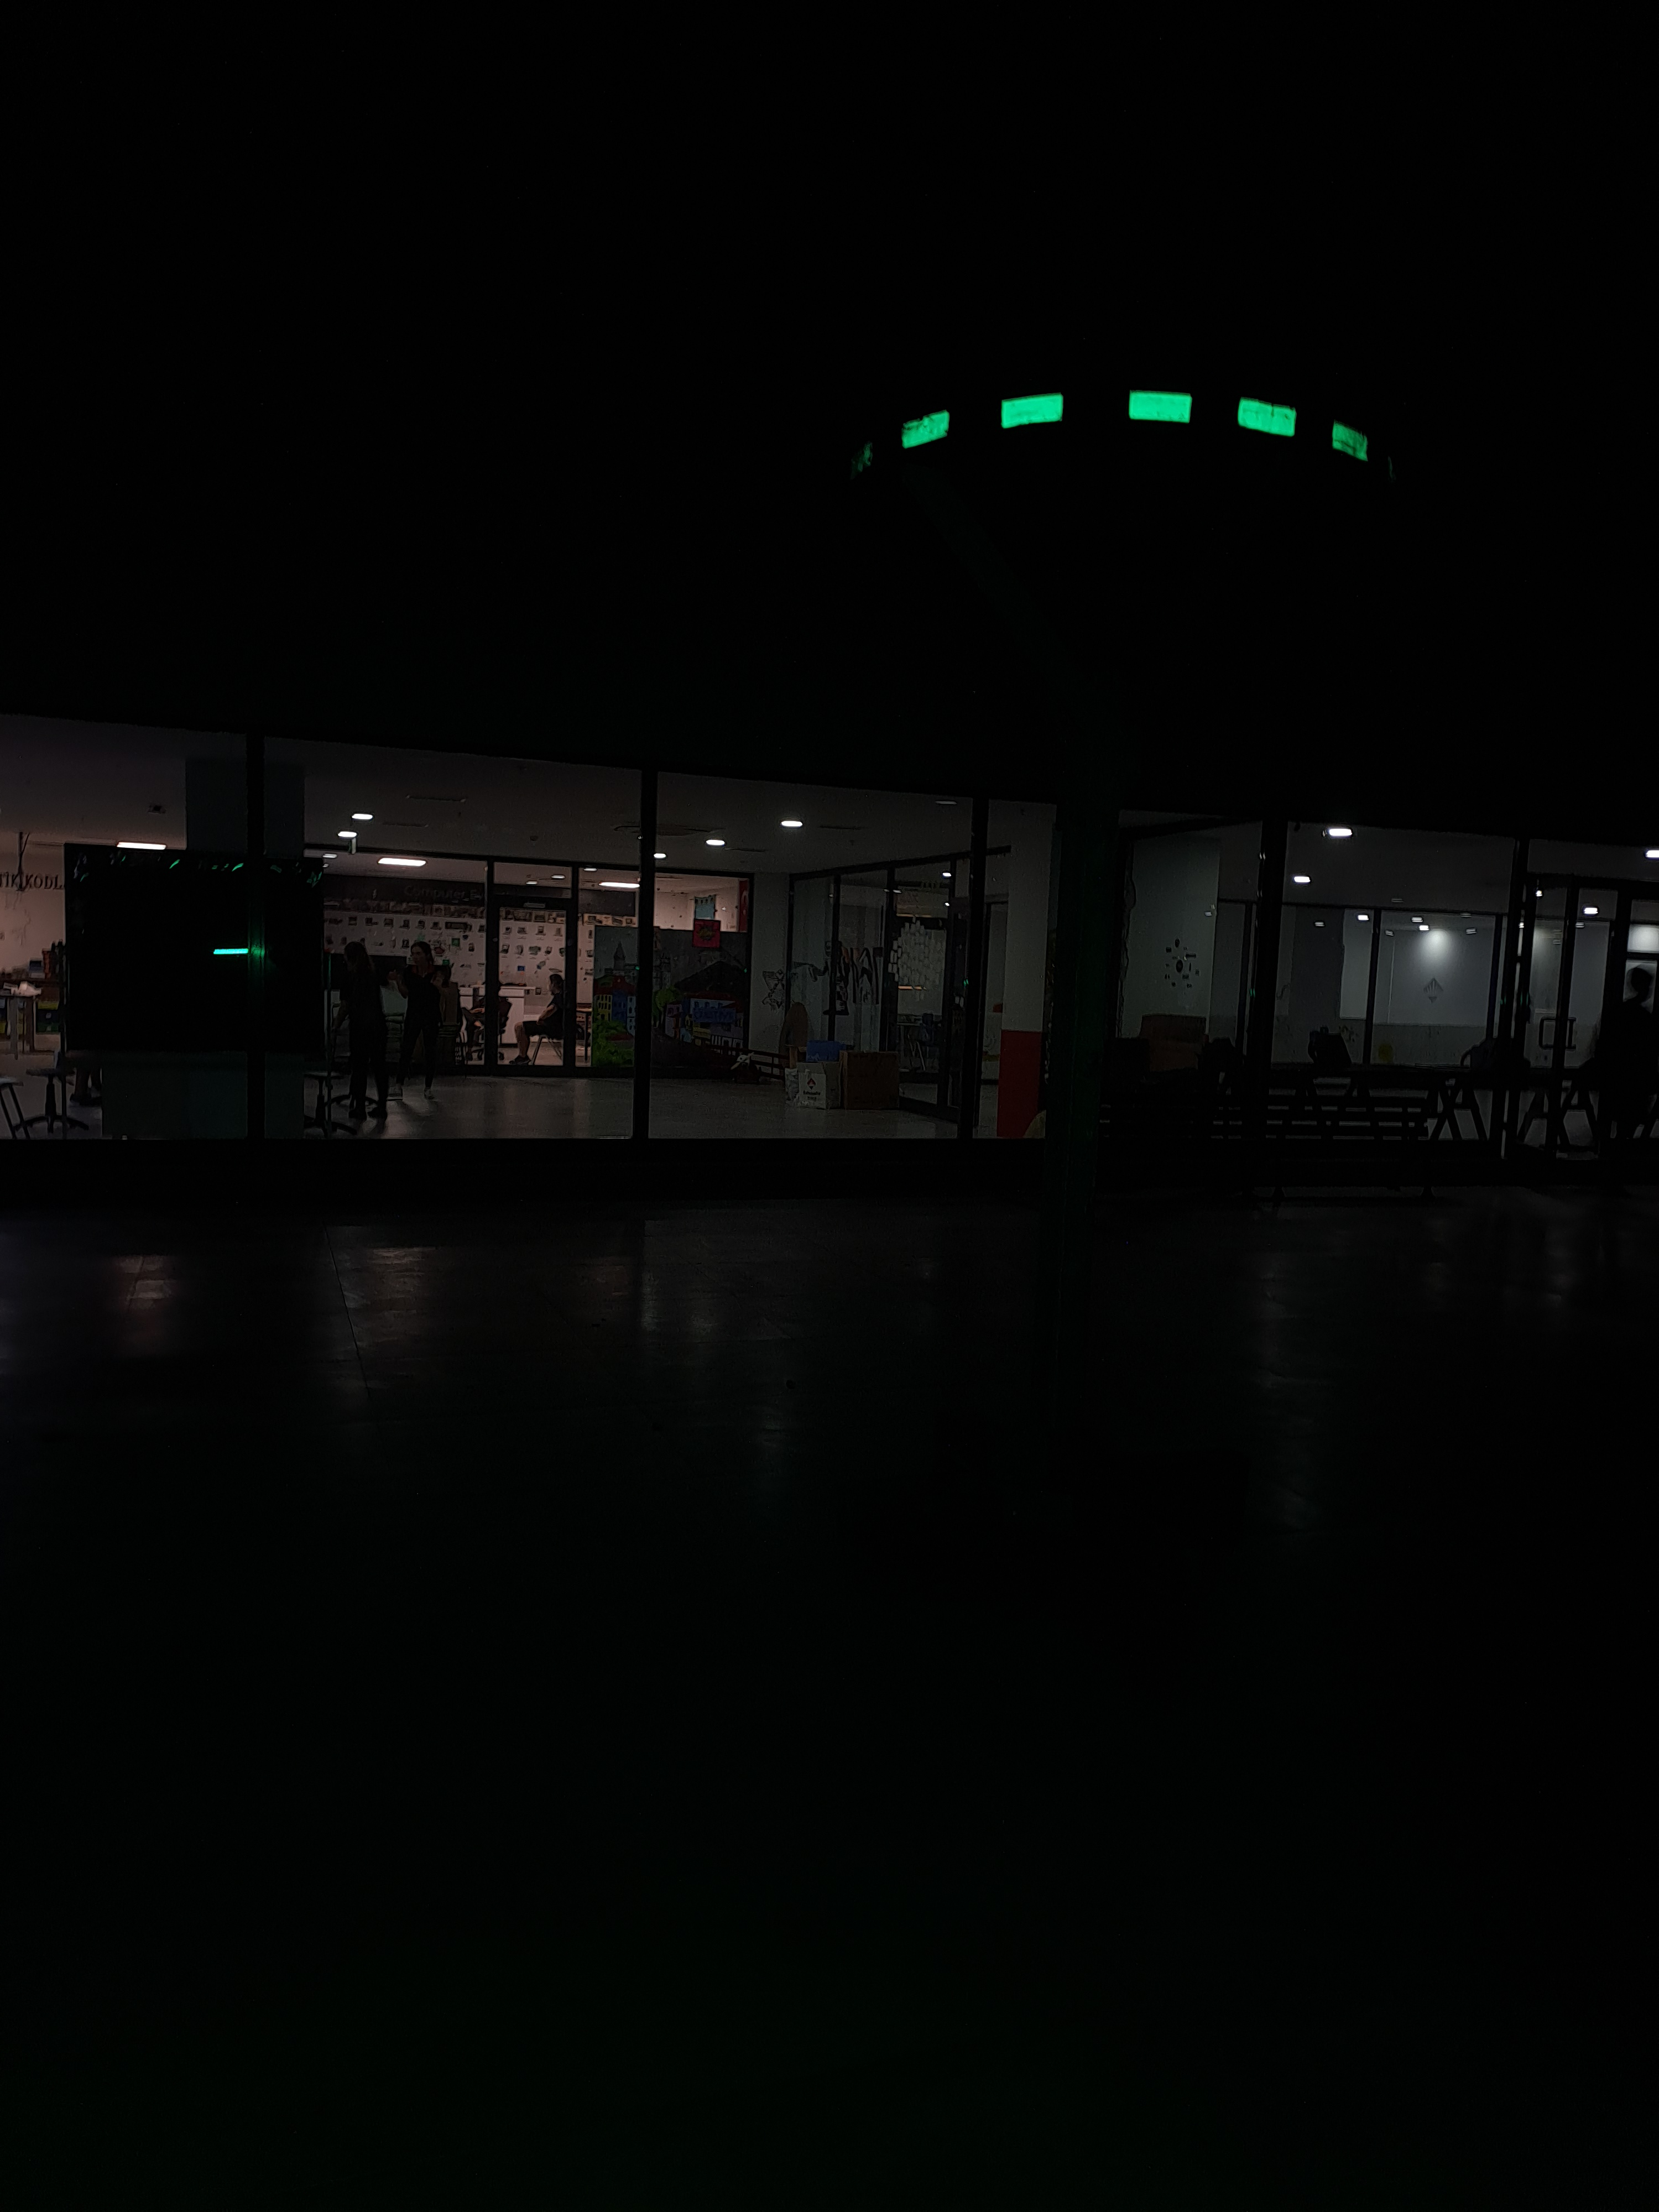hoop: (892, 380, 1373, 482)
